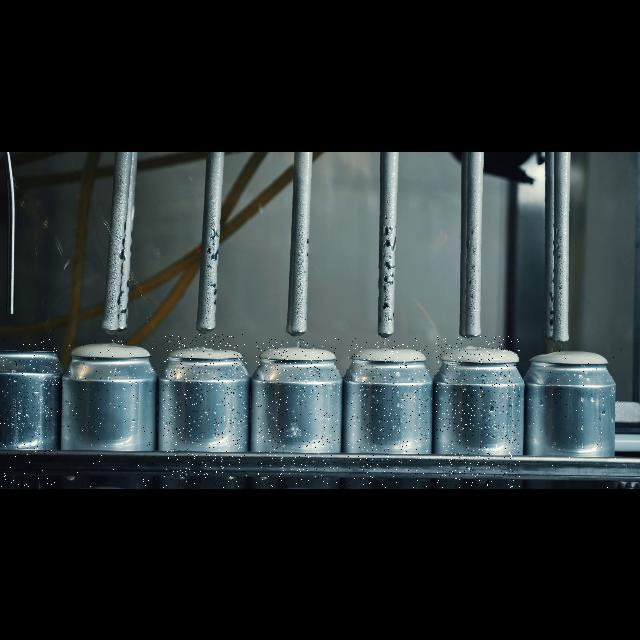empty: (0, 336, 60, 488)
full: (66, 336, 154, 488), (163, 334, 247, 488), (436, 336, 520, 488), (256, 338, 340, 488), (532, 344, 618, 488), (348, 338, 430, 488)
